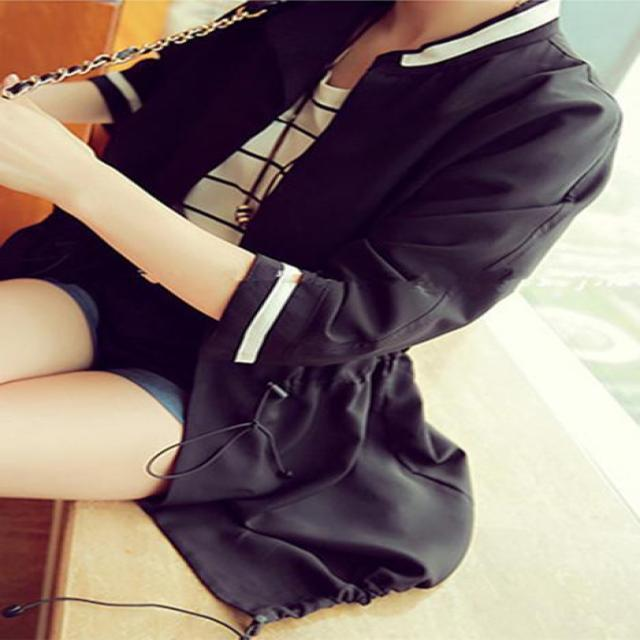long sleeve outwear: (3, 1, 390, 278)
shorts: (21, 232, 342, 480)
